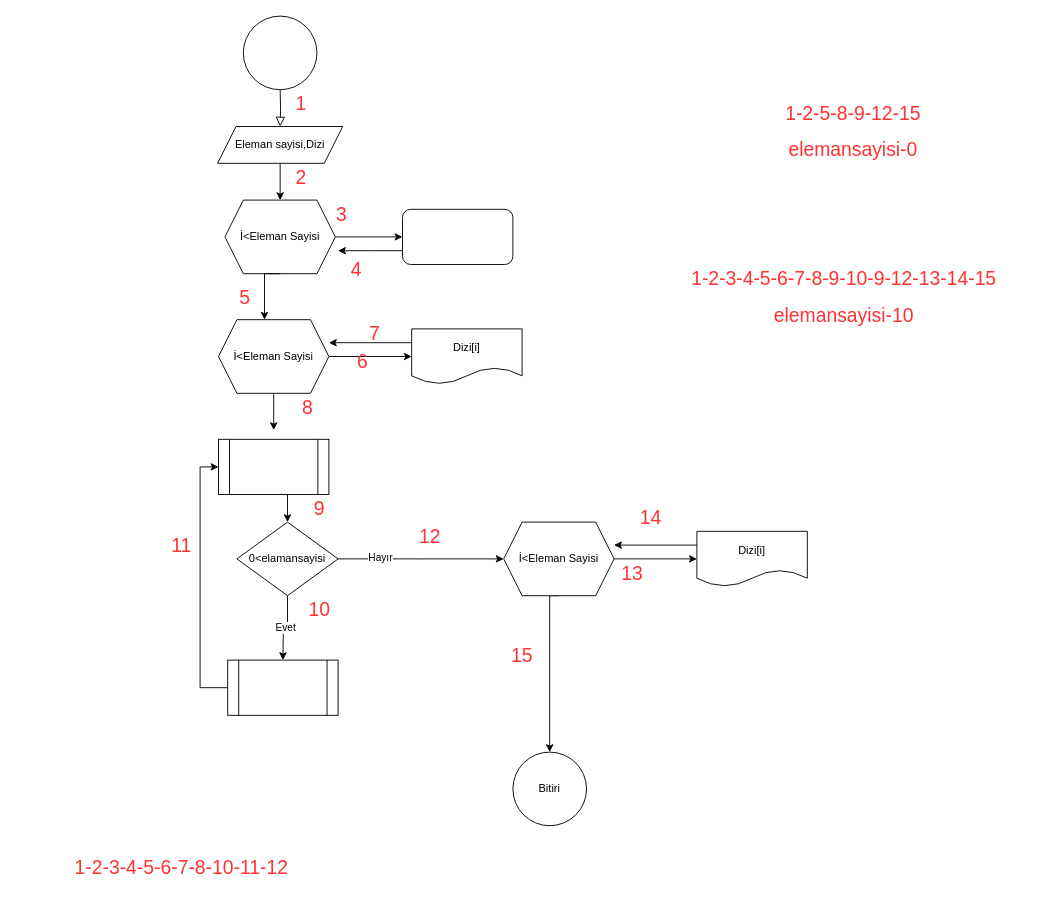
The diagram is 1043 pixels wide and 897 high, and some of its shapes have lost their labels. The box of each missing label's shape, as (x1, y1, x2, y2) in pixels:
Başla: (242, 15, 317, 90)
İ++ Dizi[i]=Random: (402, 208, 513, 264)
P=Partition QuickSort() QuickSort(): (227, 659, 338, 715)
QuickSort: (218, 438, 329, 494)
